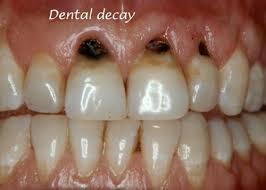Caries: (74, 24, 120, 71), (143, 30, 186, 79), (195, 39, 221, 69)
